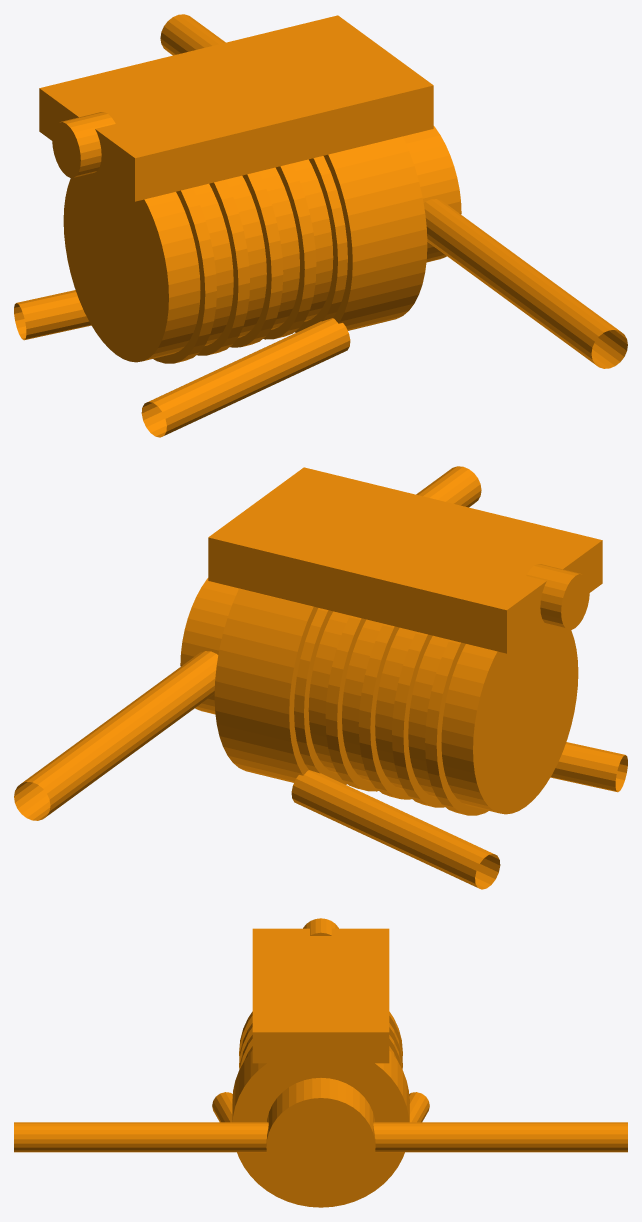
The model's file is 18_motor_gearbox_cooling.glb.
3 renders of one model, top to bottom at view 1: azimuth 30°, elevation 25°; view 2: azimuth 150°, elevation 25°; view 3: azimuth 270°, elevation 25°, orthographic. The views are drawn at different scales.
Parts seen in each view (by area): view 1: 18_motor_gearbox_cooling; view 2: 18_motor_gearbox_cooling; view 3: 18_motor_gearbox_cooling.
Part boxes in pixels (x1,y1,x2,y2): 18_motor_gearbox_cooling: (14,14,627,437); 18_motor_gearbox_cooling: (14,466,627,889); 18_motor_gearbox_cooling: (14,918,627,1207).
Size of the model in its own units: 43 by 30.99 by 90.
